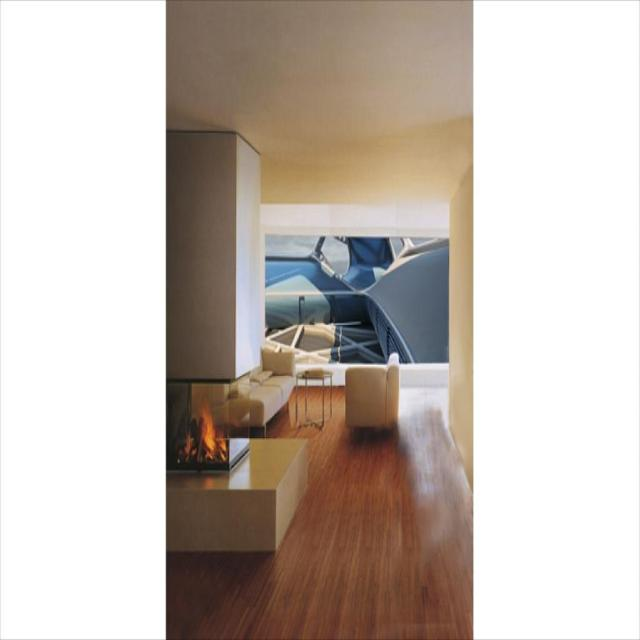Fire: (165, 374, 253, 475)
